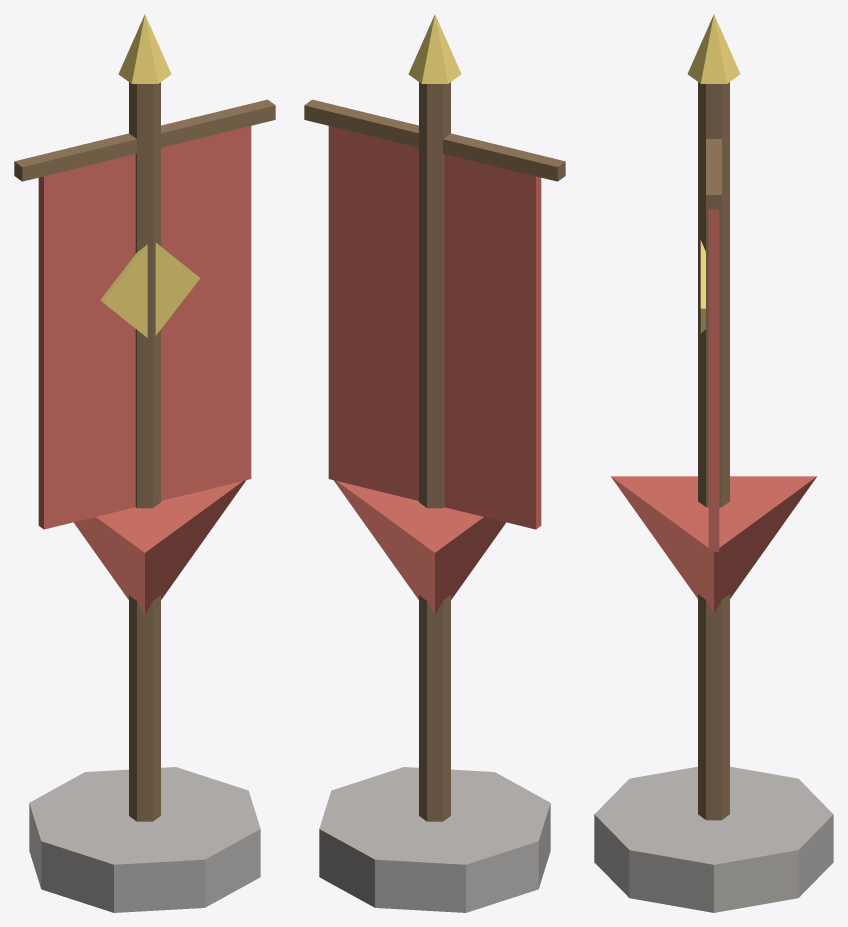
Rendered from Banner.glb.
3 renders of one model, left to right at view 1: azimuth 30°, elevation 25°; view 2: azimuth 150°, elevation 25°; view 3: azimuth 270°, elevation 25°, orthographic.
Parts seen in each view (by area): view 1: Banner_Cloth, Banner_Base, Banner_Pole, Banner_Tail, Banner_Bar, Banner_Emblem, Banner_Finial; view 2: Banner_Cloth, Banner_Base, Banner_Pole, Banner_Tail, Banner_Bar, Banner_Finial; view 3: Banner_Base, Banner_Pole, Banner_Tail, Banner_Cloth, Banner_Finial, Banner_Bar, Banner_Emblem.
Part boxes in pixels (left/top/right/bottom): Banner_Cloth: left=38, top=126, right=251, bottom=529; Banner_Base: left=29, top=767, right=260, bottom=912; Banner_Pole: left=129, top=82, right=160, bottom=821; Banner_Tail: left=74, top=480, right=245, bottom=614; Banner_Bar: left=14, top=99, right=275, bottom=181; Banner_Emblem: left=100, top=242, right=200, bottom=337; Banner_Finial: left=118, top=14, right=171, bottom=83; Banner_Cloth: left=328, top=126, right=541, bottom=529; Banner_Base: left=319, top=767, right=550, bottom=912; Banner_Pole: left=419, top=82, right=450, bottom=821; Banner_Tail: left=334, top=480, right=505, bottom=614; Banner_Bar: left=304, top=99, right=565, bottom=181; Banner_Finial: left=408, top=14, right=461, bottom=83; Banner_Base: left=594, top=766, right=833, bottom=912; Banner_Pole: left=698, top=82, right=729, bottom=820; Banner_Tail: left=611, top=476, right=816, bottom=612; Banner_Cloth: left=708, top=209, right=719, bottom=551; Banner_Finial: left=687, top=14, right=740, bottom=83; Banner_Bar: left=706, top=139, right=721, bottom=209; Banner_Emblem: left=700, top=240, right=705, bottom=333.
Size of the model in its own units: 1.1 by 3.53 by 0.9.
